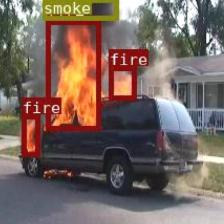fire: (45, 20, 99, 130), (108, 65, 136, 99), (20, 114, 40, 156)
smoke: (42, 0, 118, 20)
